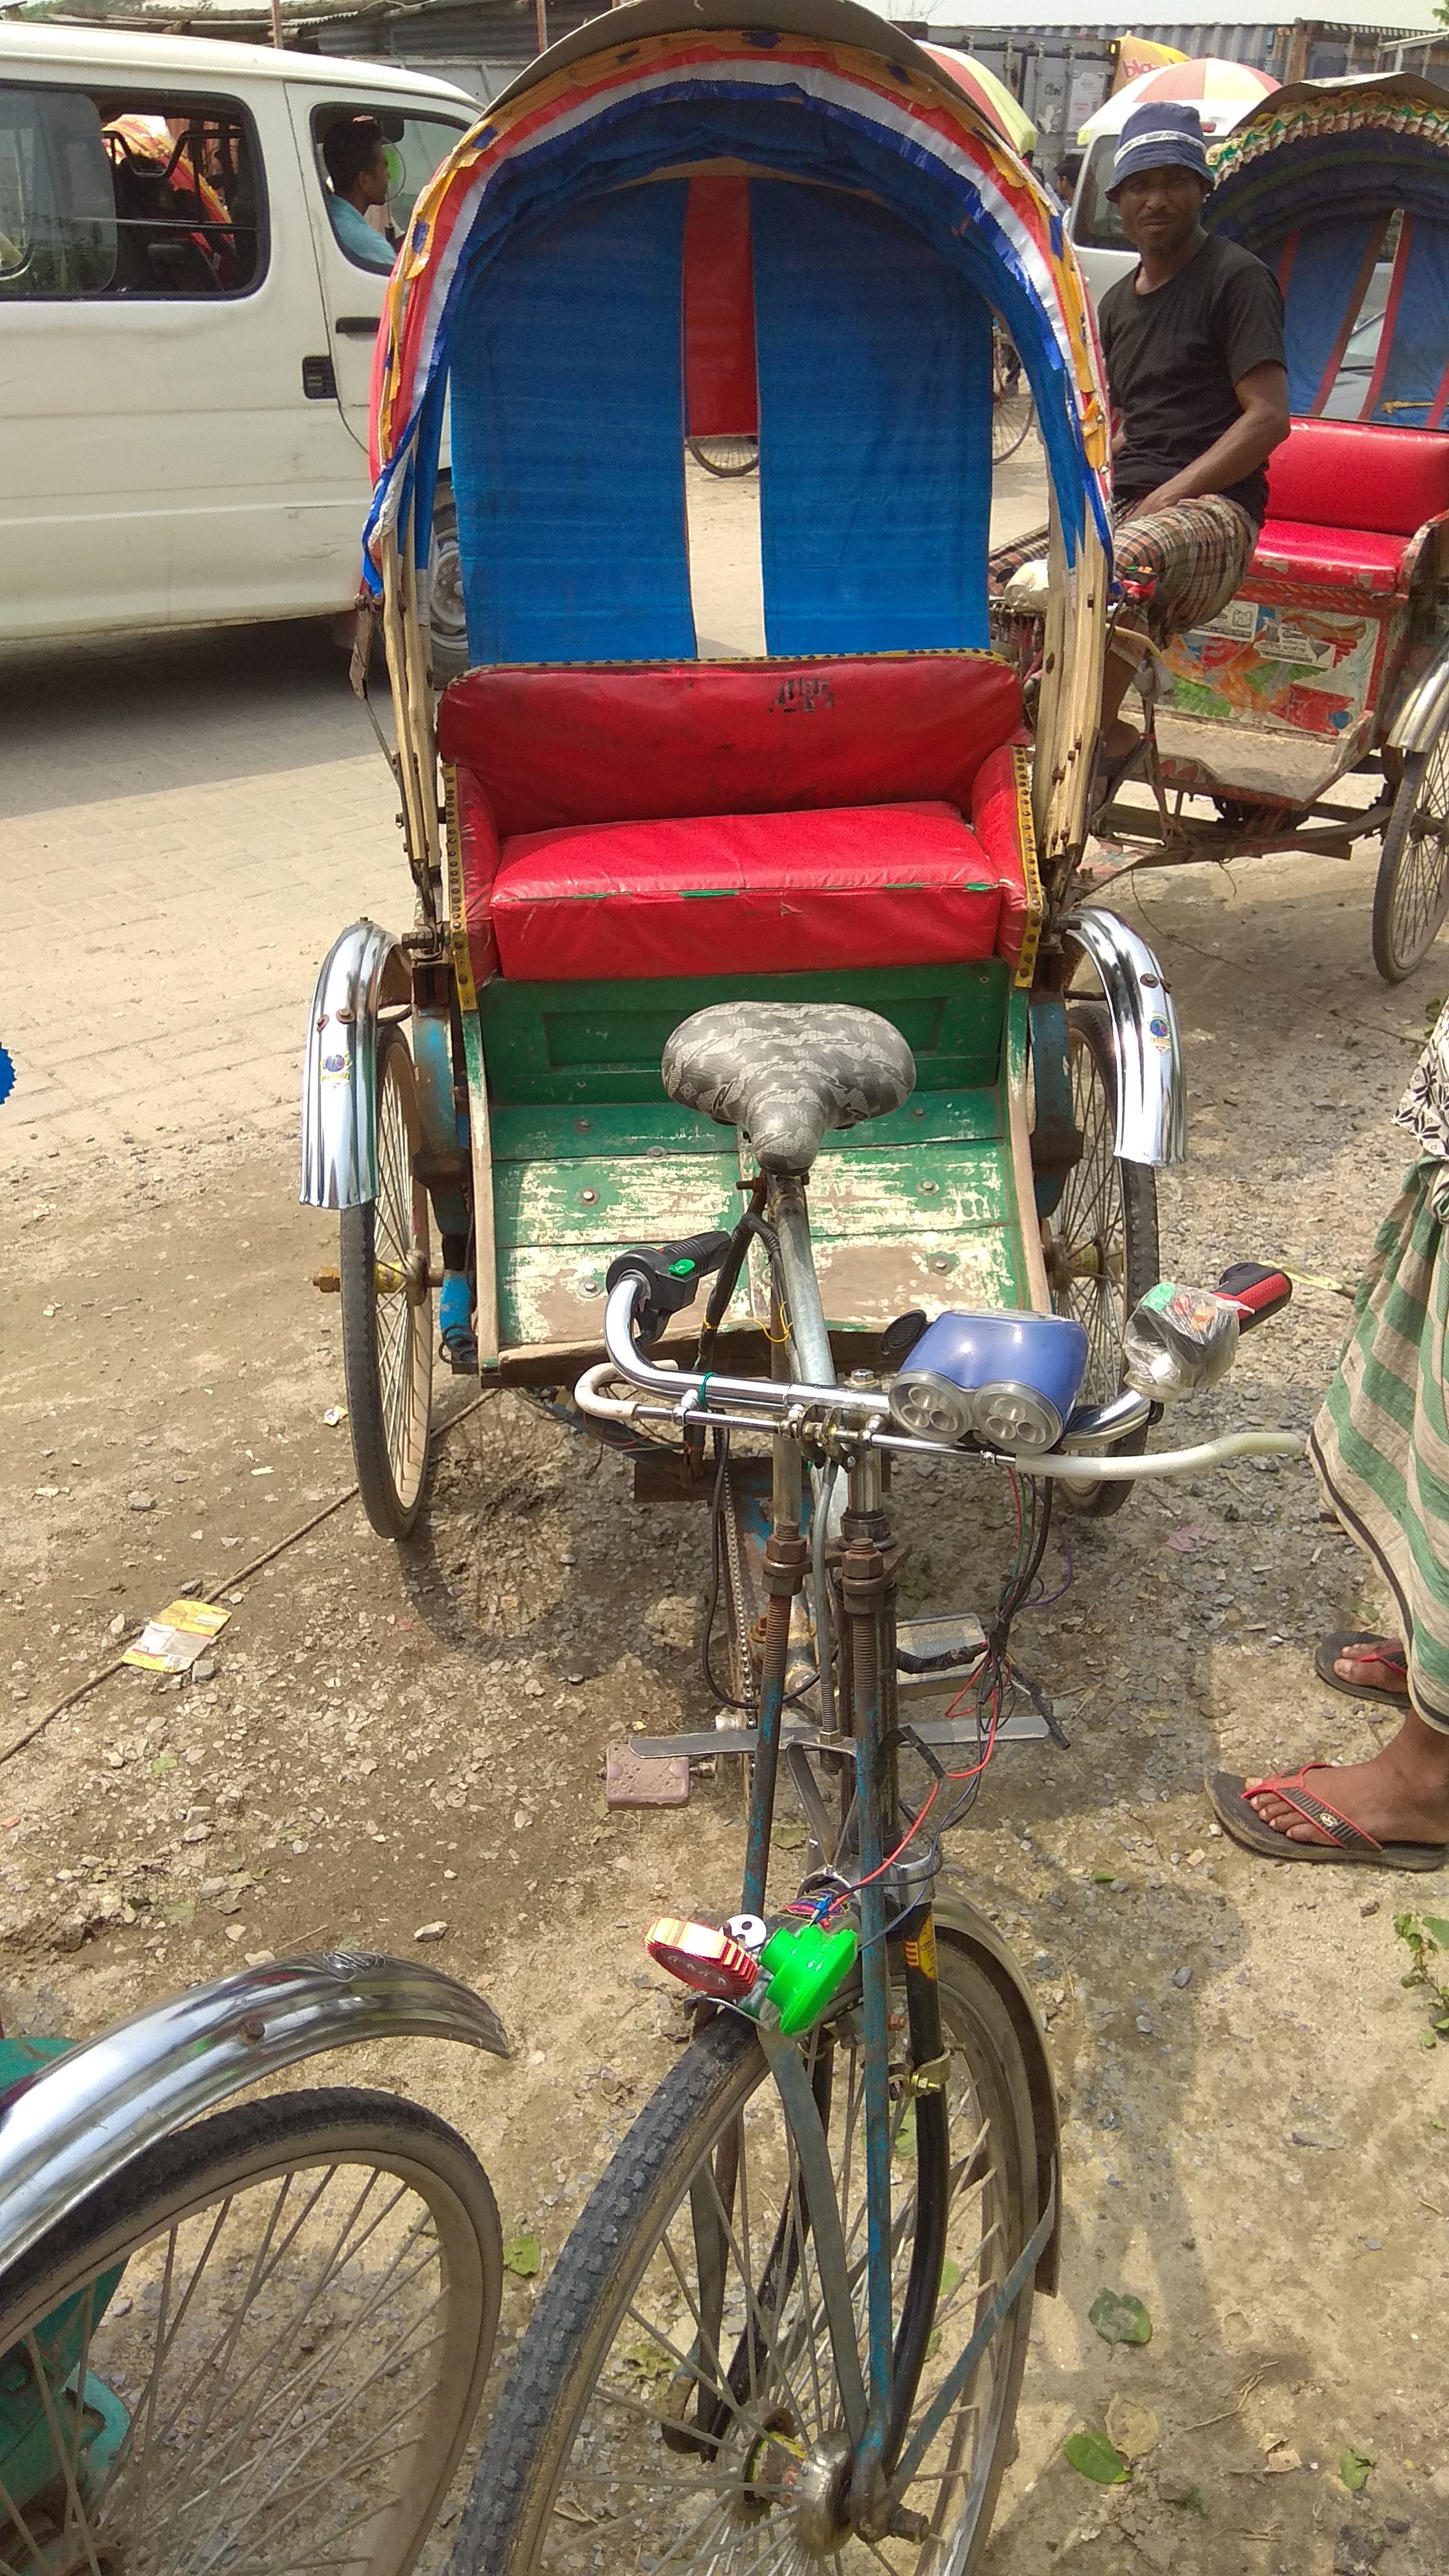Rickshaw: (308, 11, 1233, 2045), (1074, 18, 1444, 994)
